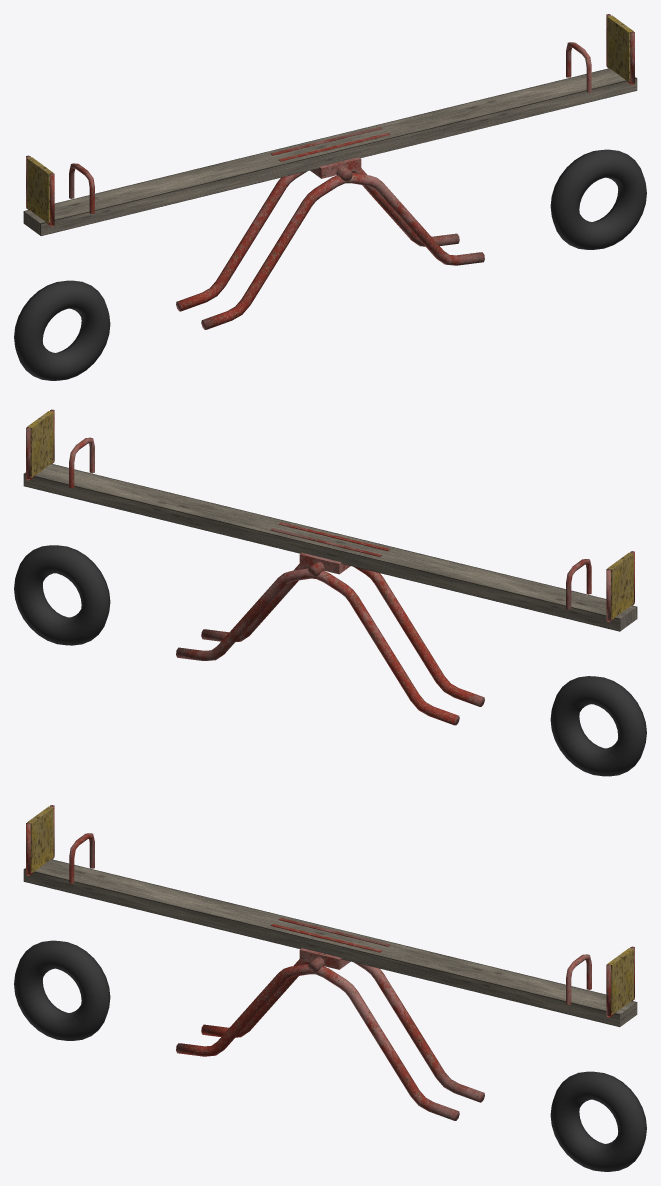
The model's file is playground_seesaw_lod1_web.glb.
The picture shows the model from 3 angles, top to bottom: view 1: azimuth 30°, elevation 25°; view 2: azimuth 150°, elevation 25°; view 3: azimuth 330°, elevation 25°; orthographic projection.
Parts seen in each view (by area): view 1: Seesaw_BeamMesh, Seesaw_Base; view 2: Seesaw_BeamMesh, Seesaw_Base; view 3: Seesaw_BeamMesh, Seesaw_Base.
Boxes of the visible parts, x1,y1,x2,y2 form: Seesaw_BeamMesh: (23,14,637,235); Seesaw_Base: (14,149,646,380); Seesaw_BeamMesh: (23,409,637,631); Seesaw_Base: (14,545,646,776); Seesaw_BeamMesh: (23,805,637,1026); Seesaw_Base: (14,940,646,1171).
Size of the model in its own units: 3.17 by 1.06 by 0.2999.
4 materials, 3 textured.
